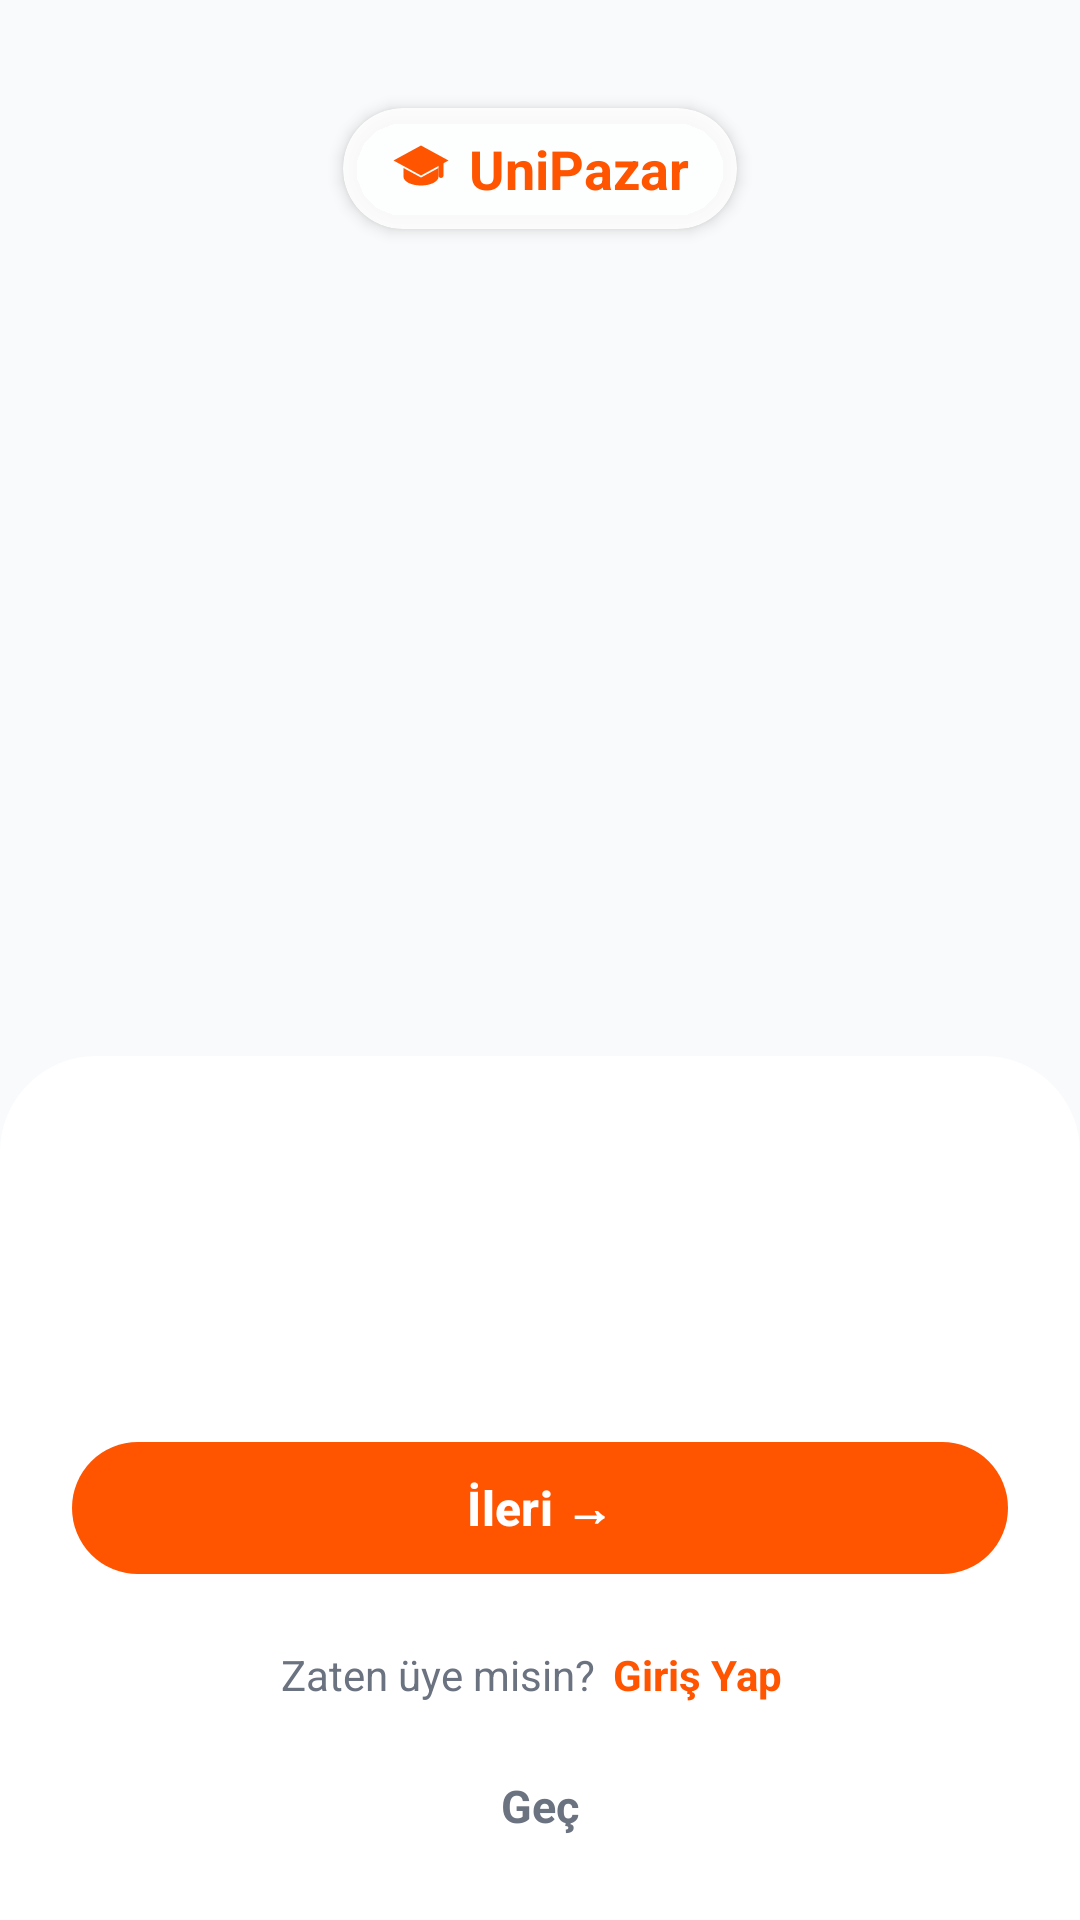

Locate icon controls on the screen. Image size 1080×1920, boxes as Rect(x1, y1, x2, y2).
grad cap: Rect(393, 145, 449, 186)
